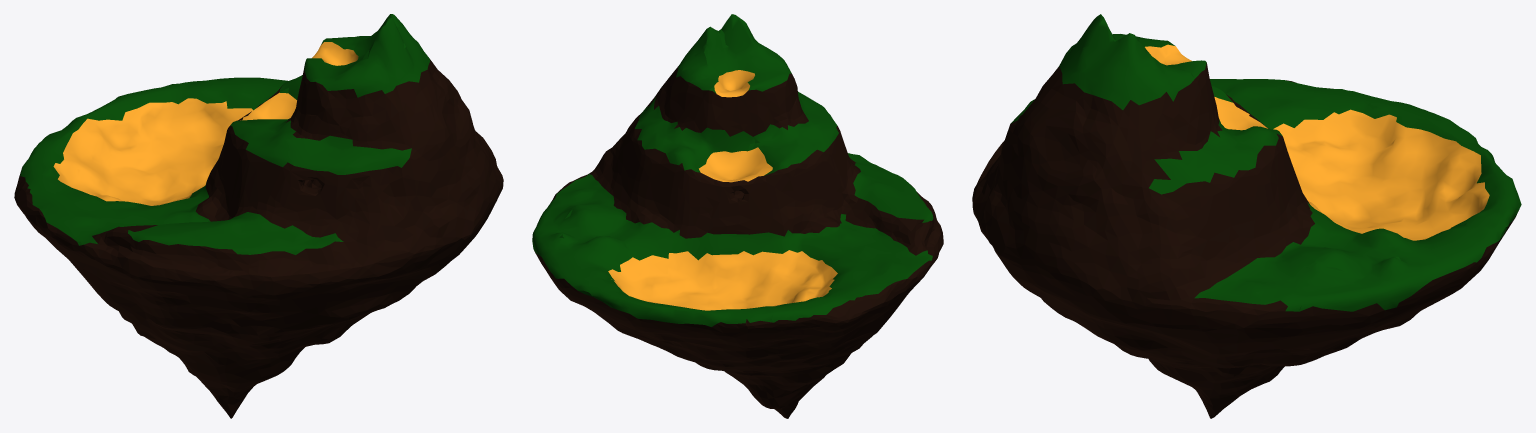
File: test_Isle_grande.FBX
3 renders of one model, left to right at view 1: azimuth 30°, elevation 25°; view 2: azimuth 150°, elevation 25°; view 3: azimuth 270°, elevation 25°, orthographic. The views are drawn at different scales.
Parts seen in each view (by area): view 1: Group31593; view 2: Group31593; view 3: Group31593.
Part boxes in pixels (x1,y1,x2,y2): Group31593: [14, 14, 503, 418]; Group31593: [532, 14, 943, 418]; Group31593: [972, 14, 1521, 418].
Bounding box in the file's own units: 6768842 × 6360327 × 6806328.
